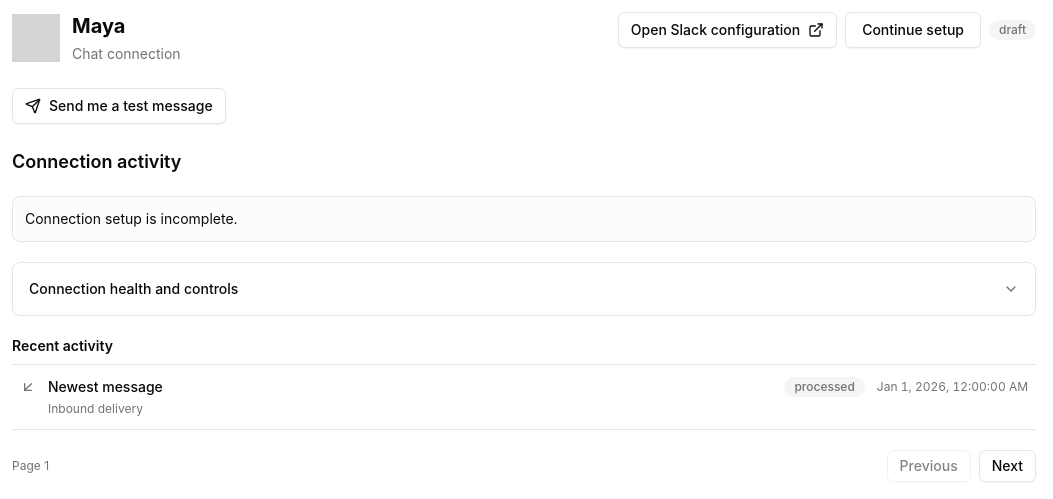
Test: chat setup and identity-link clipboard actions › pages older activity and lets users return after a page fails
Click the button "Next": (1007, 466) [979,450,1036,482]
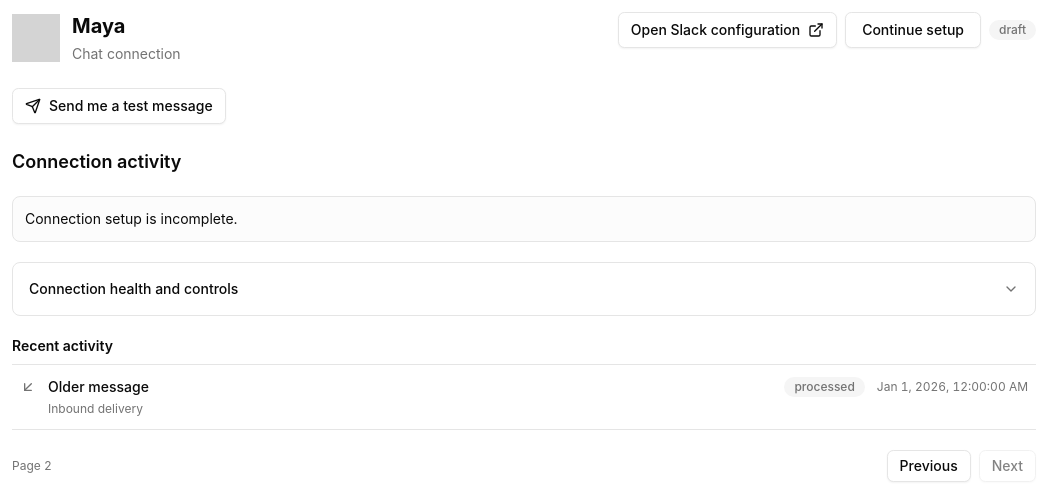
Expected: the text "Older message" is shown, [48,378,149,395]
Expected: the text "Page 2" is shown, [12,458,52,474]
Click the button "Previous": (929, 466) [887,450,971,482]
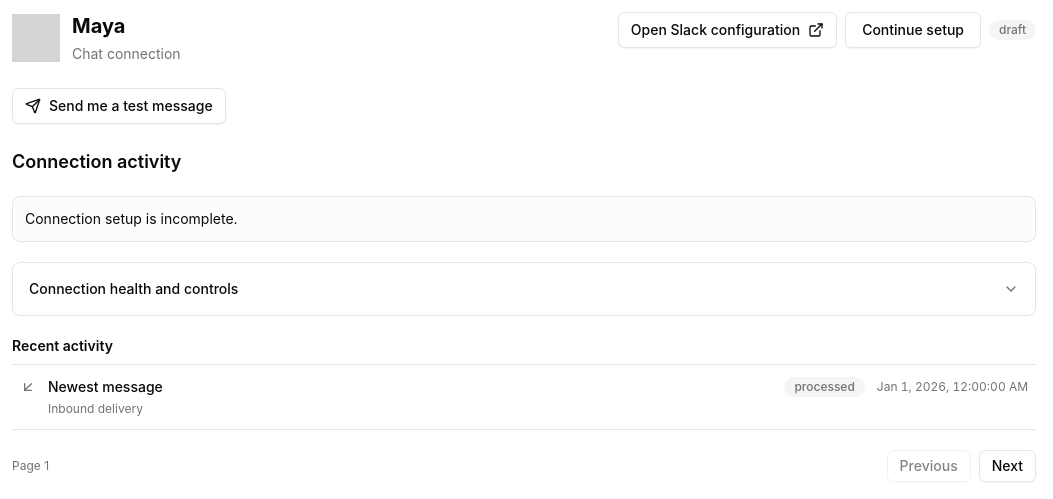
Expected: the text "Newest message" is shown, [48,378,163,395]
Click the button "Next": (1007, 466) [979,450,1036,482]
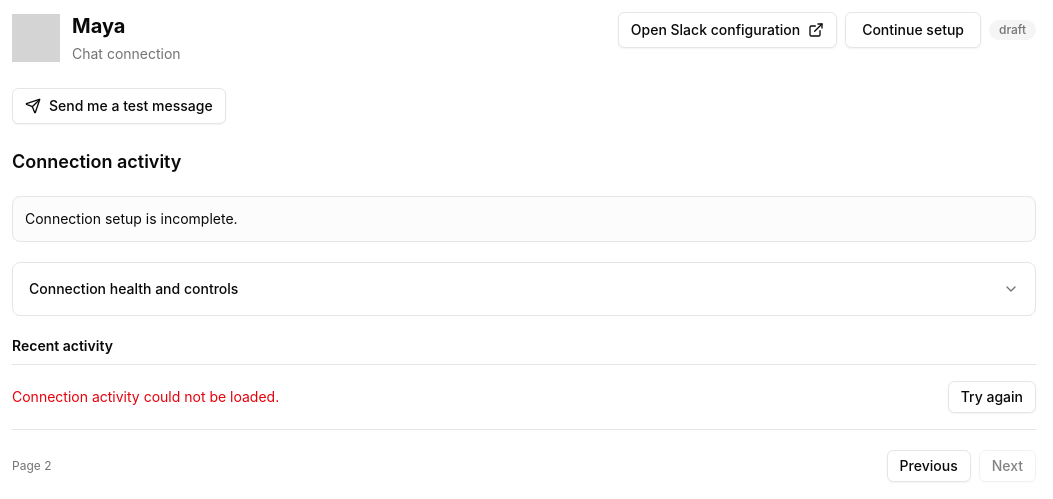
Expected: the text "Connection activity could not be loaded" is shown, [12,388,279,405]
Click the button "Previous": (929, 466) [887,450,971,482]
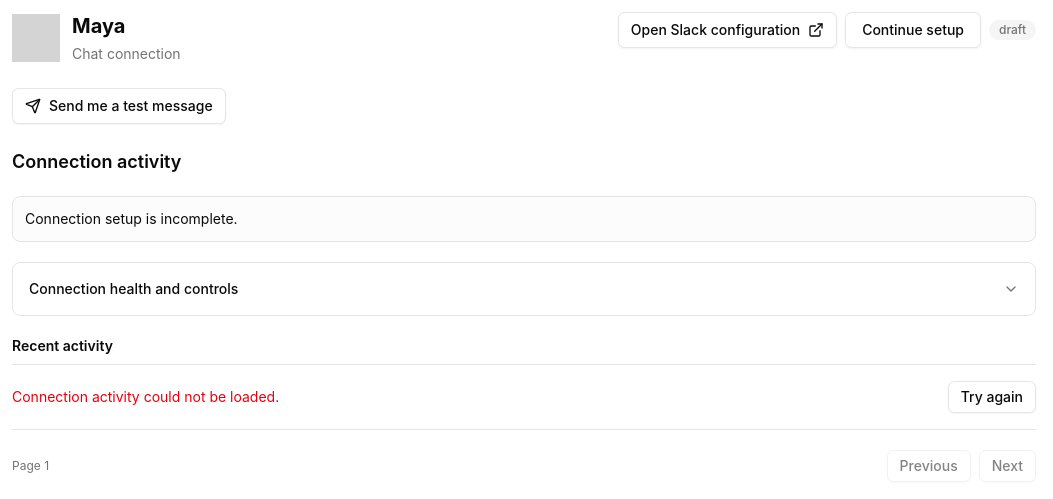
Expected: the text "Page 1" is shown, [12,458,49,474]
